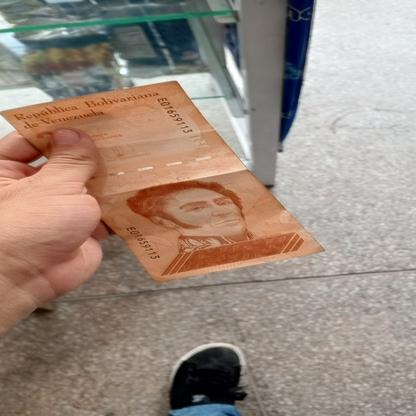twenty-front-vef: (0, 79, 325, 283)
